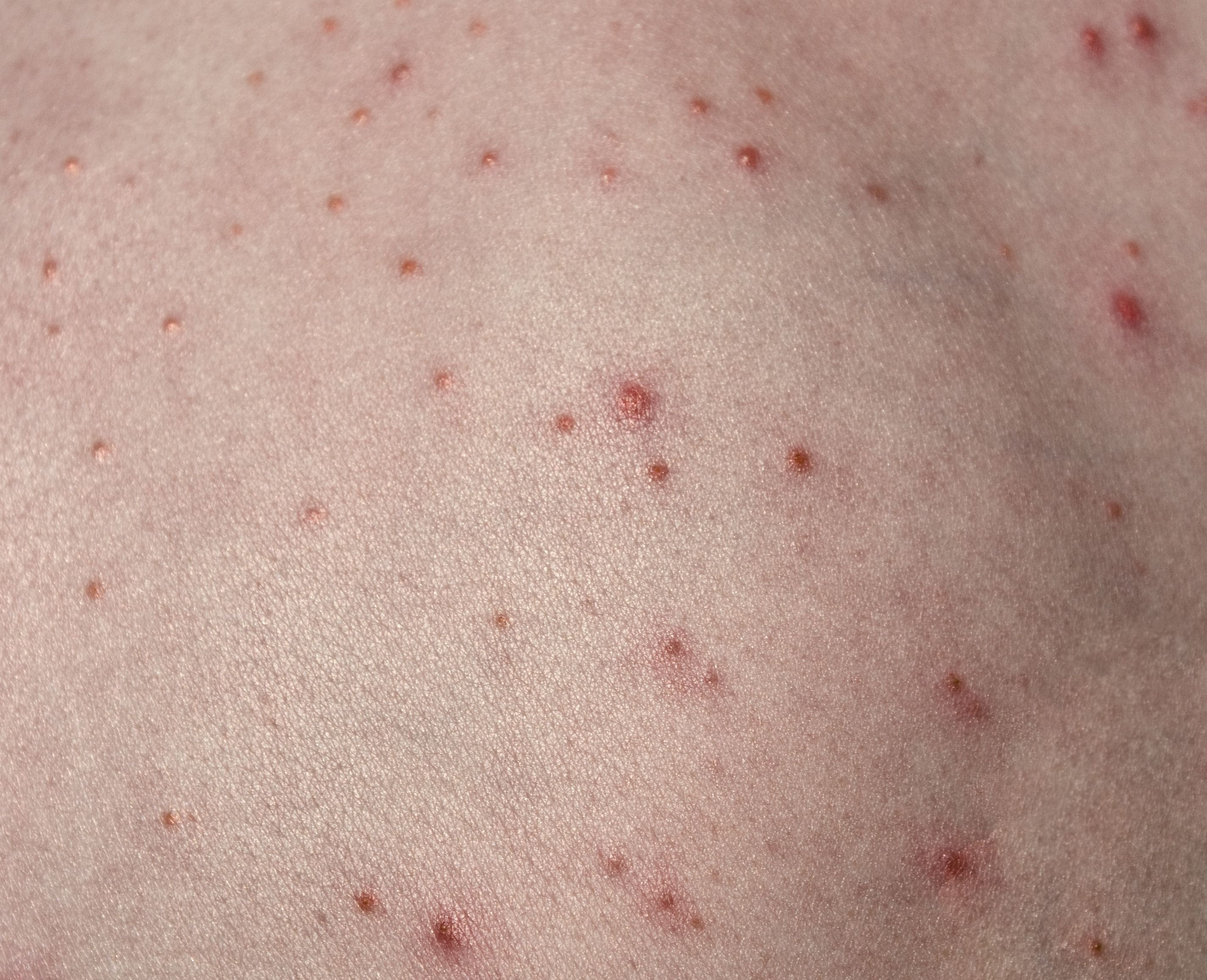Acne: (57, 14, 1135, 938)
